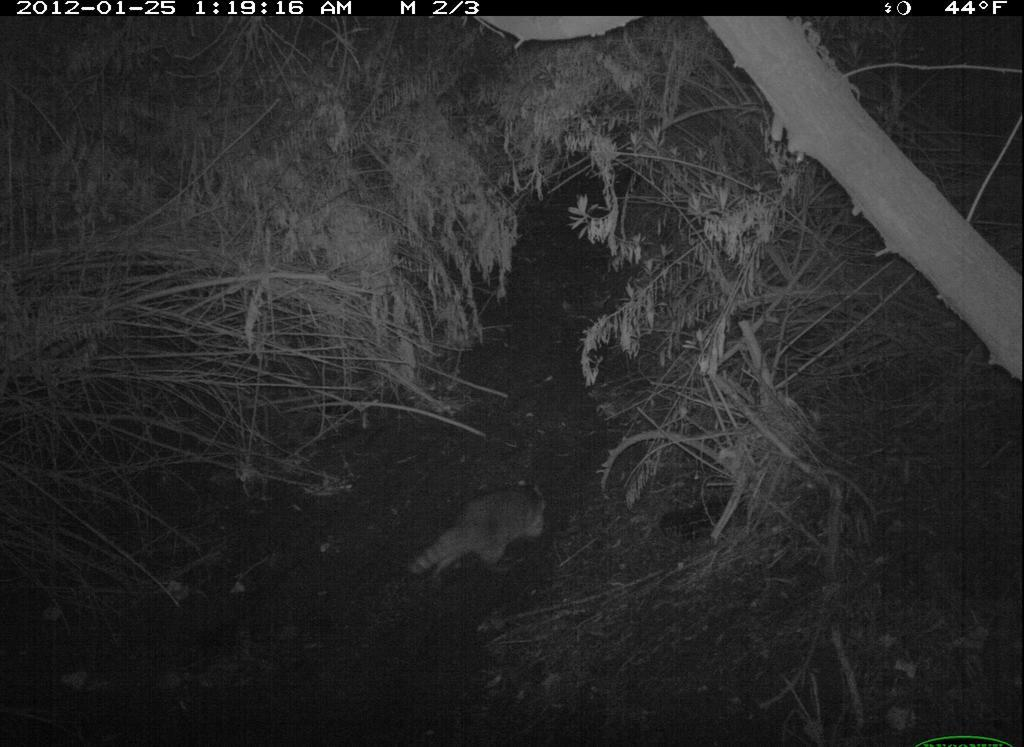raccoon: (413, 470, 566, 594)
